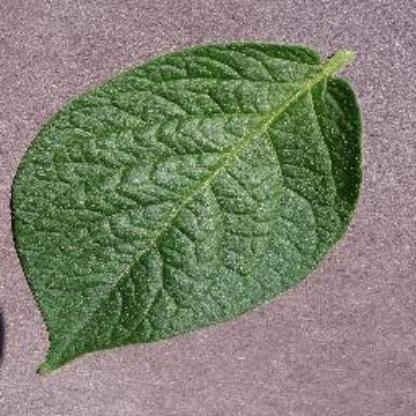Healthy-plant: (4, 30, 384, 382)
